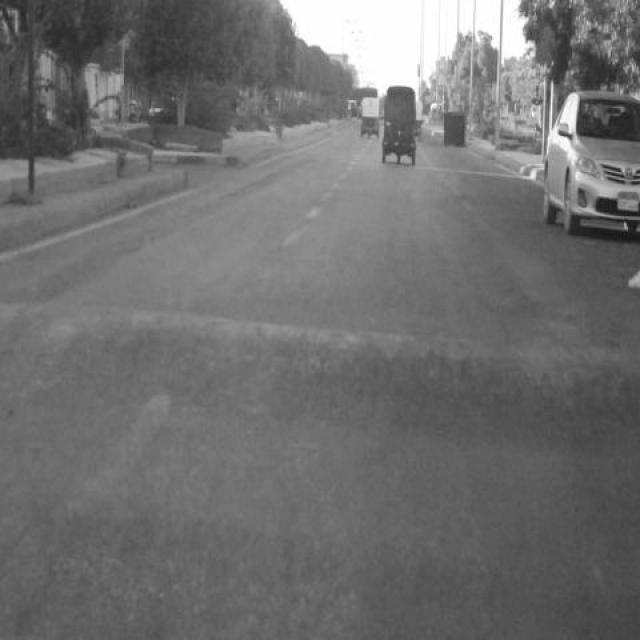Unmarked Bump: (0, 304, 640, 447)
